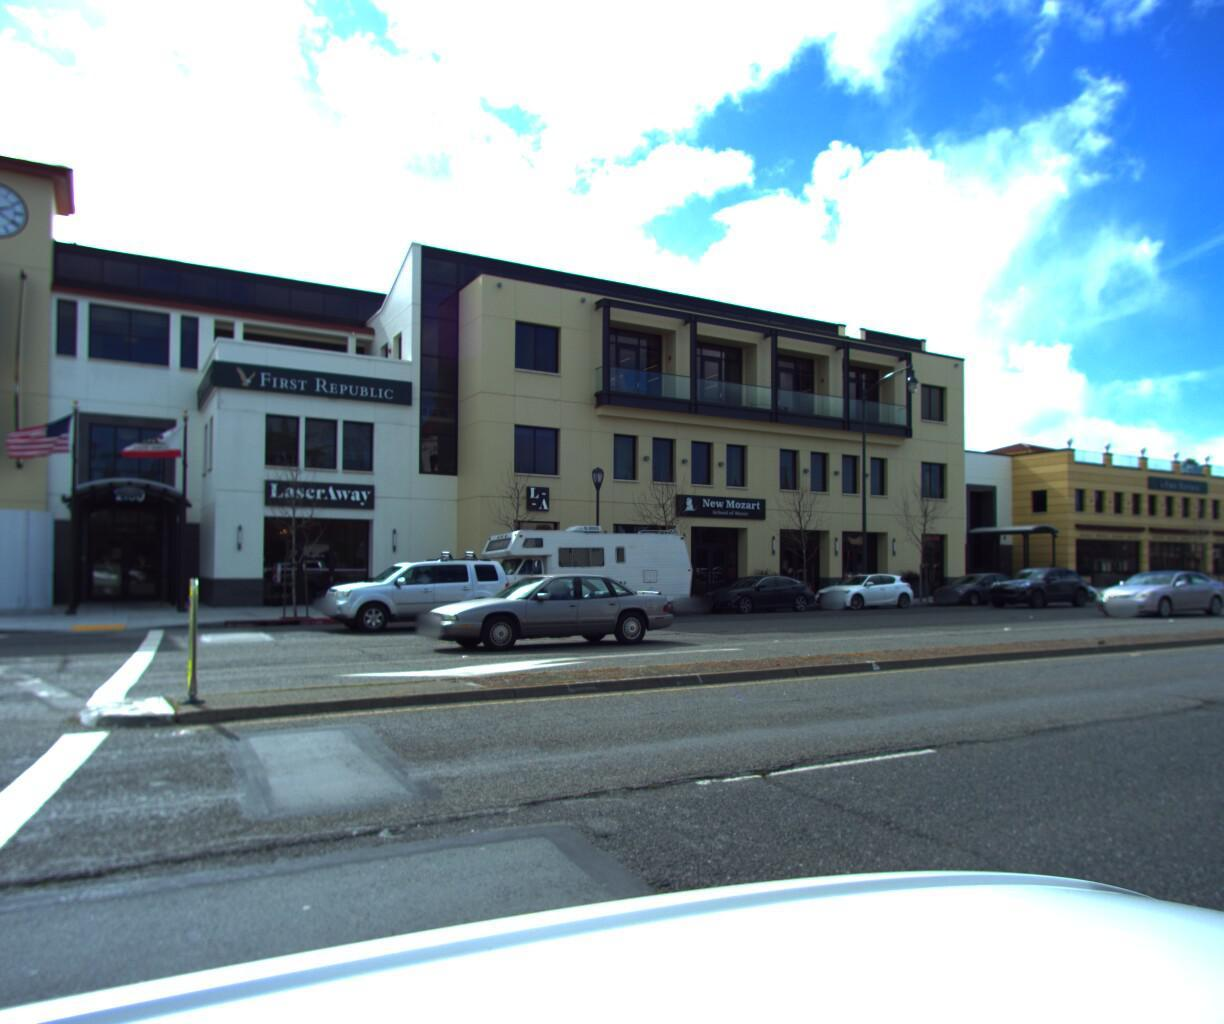car: (408, 579, 677, 667), (315, 557, 516, 641), (1084, 571, 1224, 622), (692, 578, 820, 621), (806, 575, 917, 617), (984, 570, 1096, 612), (922, 576, 1023, 612)
other_vehicle: (451, 523, 702, 633)
